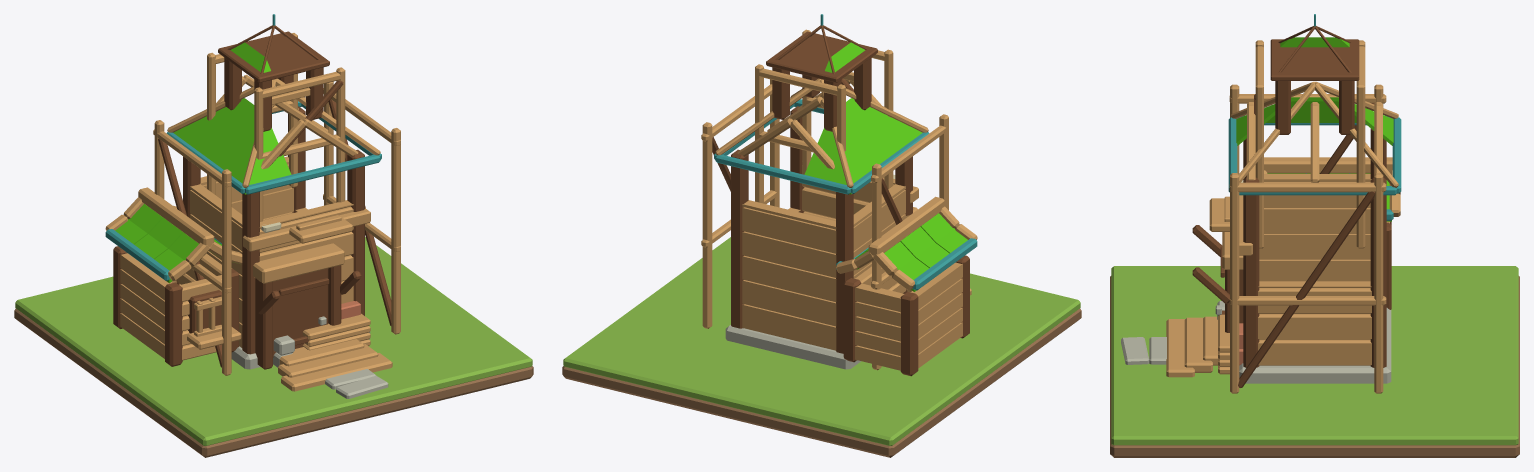
File: town_hall_l04_construction_LOD0.glb
The picture shows the model from 3 angles, left to right: view 1: azimuth 30°, elevation 25°; view 2: azimuth 150°, elevation 25°; view 3: azimuth 270°, elevation 25°; orthographic projection. The views are drawn at different scales.
Parts seen in each view (by area): view 1: town_hall_l04_construction_grass_tile, town_hall_l04_construction_earth_tile, town_hall_l04_construction_door_recess, town_hall_l04_construction_central_spire_cornice, town_hall_l04_construction_corner_reinforcement, town_hall_l04_construction_hip_roof_shingle.011, town_hall_l04_construction_door_lintel, town_hall_l04_construction_scaffold_post.002, town_hall_l04_construction_scaffold_post, town_hall_l04_construction_corner_reinforcement.002, town_hall_l04_construction_corner_reinforcement.004, town_hall_l04_construction_entry_step.002 (+49 smaller); view 2: town_hall_l04_construction_grass_tile, town_hall_l04_construction_earth_tile, town_hall_l04_construction_central_spire_cornice, town_hall_l04_construction_wall_siding.005, town_hall_l04_construction_wall_siding.017, town_hall_l04_construction_wall_siding.001, town_hall_l04_construction_wall_siding.009, town_hall_l04_construction_wall_siding.013, town_hall_l04_construction_corner_reinforcement.003, town_hall_l04_construction_hip_roof_shingle.011, town_hall_l04_construction_scaffold_post.003, town_hall_l04_construction_foundation (+43 smaller); view 3: town_hall_l04_construction_grass_tile, town_hall_l04_construction_earth_tile, town_hall_l04_construction_central_spire_cornice, town_hall_l04_construction_foundation, town_hall_l04_construction_wall_siding.003, town_hall_l04_construction_wall_siding.007, town_hall_l04_construction_corner_reinforcement.002, town_hall_l04_construction_wall_siding.010, town_hall_l04_construction_wall_siding.014, town_hall_l04_construction_wall_siding.006, town_hall_l04_construction_scaffold_post.002, town_hall_l04_construction_scaffold_post.003 (+35 smaller).
Part boxes in pixels (x1=…): town_hall_l04_construction_grass_tile: x1=15, y1=237, x2=532, y2=445; town_hall_l04_construction_earth_tile: x1=14, y1=308, x2=533, y2=457; town_hall_l04_construction_door_recess: x1=273, y1=268, x2=328, y2=357; town_hall_l04_construction_central_spire_cornice: x1=218, y1=31, x2=329, y2=82; town_hall_l04_construction_corner_reinforcement: x1=242, y1=192, x2=259, y2=354; town_hall_l04_construction_hip_roof_shingle.011: x1=173, y1=118, x2=250, y2=194; town_hall_l04_construction_door_lintel: x1=253, y1=243, x2=344, y2=283; town_hall_l04_construction_scaffold_post.002: x1=391, y1=128, x2=400, y2=334; town_hall_l04_construction_scaffold_post: x1=222, y1=169, x2=231, y2=375; town_hall_l04_construction_corner_reinforcement.002: x1=347, y1=149, x2=364, y2=315; town_hall_l04_construction_corner_reinforcement.004: x1=165, y1=282, x2=182, y2=366; town_hall_l04_construction_entry_step.002: x1=281, y1=353, x2=392, y2=391; town_hall_l04_construction_grass_tile: x1=563, y1=237, x2=1080, y2=445; town_hall_l04_construction_earth_tile: x1=562, y1=308, x2=1081, y2=457; town_hall_l04_construction_central_spire_cornice: x1=766, y1=31, x2=877, y2=82; town_hall_l04_construction_wall_siding.005: x1=742, y1=280, x2=836, y2=326; town_hall_l04_construction_wall_siding.017: x1=742, y1=207, x2=836, y2=253; town_hall_l04_construction_wall_siding.001: x1=742, y1=304, x2=836, y2=350; town_hall_l04_construction_wall_siding.009: x1=742, y1=255, x2=836, y2=301; town_hall_l04_construction_wall_siding.013: x1=742, y1=231, x2=836, y2=277; town_hall_l04_construction_corner_reinforcement.003: x1=731, y1=149, x2=748, y2=328; town_hall_l04_construction_hip_roof_shingle.011: x1=845, y1=118, x2=922, y2=194; town_hall_l04_construction_scaffold_post.003: x1=702, y1=122, x2=712, y2=328; town_hall_l04_construction_foundation: x1=725, y1=325, x2=860, y2=369; town_hall_l04_construction_grass_tile: x1=1111, y1=266, x2=1518, y2=445; town_hall_l04_construction_earth_tile: x1=1110, y1=276, x2=1519, y2=457; town_hall_l04_construction_central_spire_cornice: x1=1270, y1=39, x2=1359, y2=80; town_hall_l04_construction_foundation: x1=1239, y1=308, x2=1391, y2=383; town_hall_l04_construction_wall_siding.003: x1=1258, y1=339, x2=1371, y2=365; town_hall_l04_construction_wall_siding.007: x1=1258, y1=314, x2=1371, y2=339; town_hall_l04_construction_corner_reinforcement.002: x1=1243, y1=177, x2=1259, y2=367; town_hall_l04_construction_wall_siding.010: x1=1259, y1=234, x2=1370, y2=259; town_hall_l04_construction_wall_siding.014: x1=1264, y1=208, x2=1370, y2=233; town_hall_l04_construction_wall_siding.006: x1=1259, y1=259, x2=1370, y2=281; town_hall_l04_construction_scaffold_post.002: x1=1230, y1=173, x2=1239, y2=393; town_hall_l04_construction_scaffold_post.003: x1=1374, y1=173, x2=1383, y2=393.
Size of the model in its own units: 3.6 by 3.48 by 3.6.
